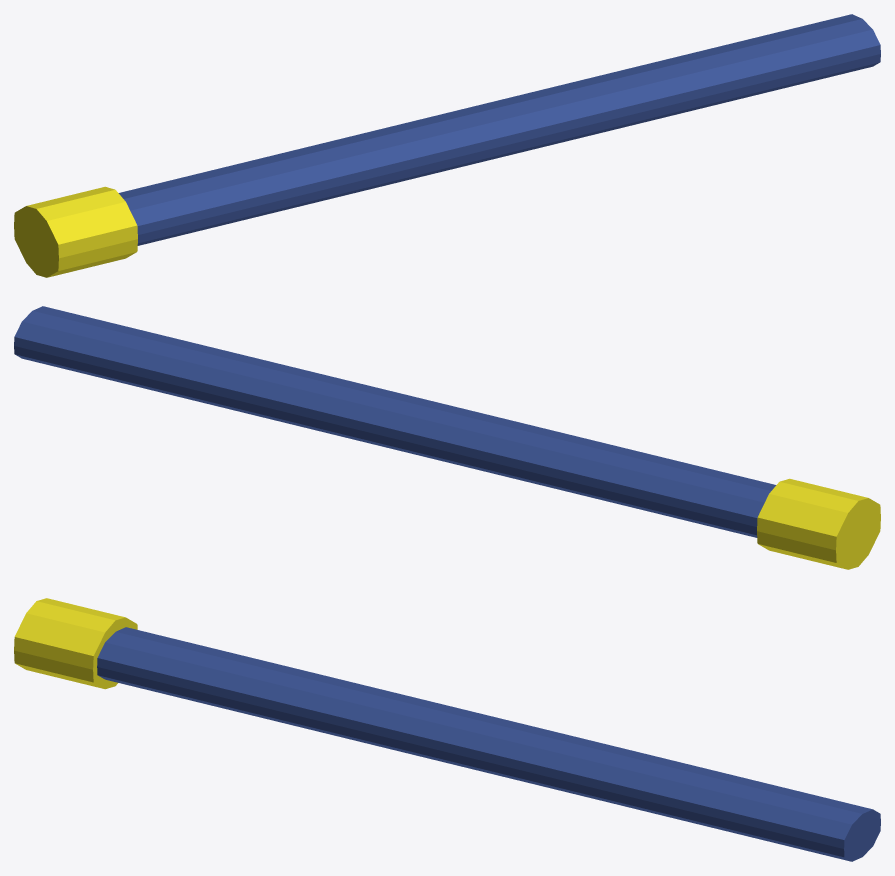
The model's file is ToyHammer_Handle.fbx.
The picture shows the model from 3 angles, top to bottom: view 1: azimuth 30°, elevation 25°; view 2: azimuth 150°, elevation 25°; view 3: azimuth 330°, elevation 25°; orthographic projection.
Visible parts, largest first — view 1: ToyHammer_Handle; view 2: ToyHammer_Handle; view 3: ToyHammer_Handle.
Boxes of the visible parts, left/top/right/bottom form: ToyHammer_Handle: left=14, top=14, right=880, bottom=277; ToyHammer_Handle: left=14, top=306, right=880, bottom=569; ToyHammer_Handle: left=14, top=598, right=880, bottom=861.
Bounding box in the file's own units: 102 × 7.79 × 9.63.
1 material, 1 textured.
